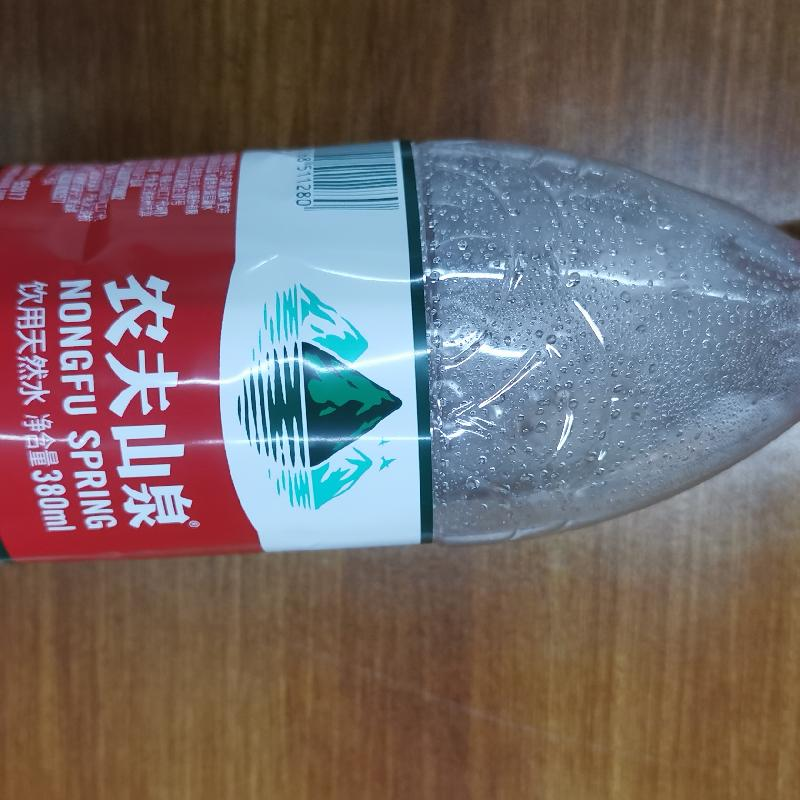bottles: (5, 134, 799, 572)
